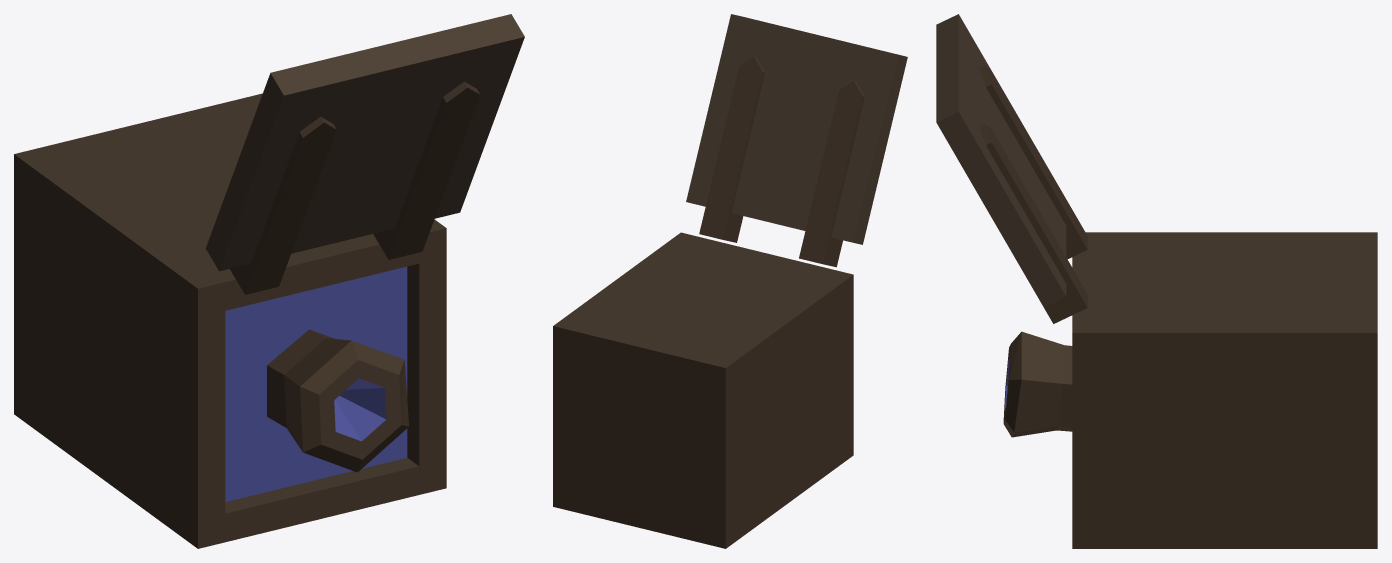
File: SM_Veh_Extra_Gun_01_Pirate.glb
3 renders of one model, left to right at view 1: azimuth 30°, elevation 25°; view 2: azimuth 150°, elevation 25°; view 3: azimuth 270°, elevation 25°, orthographic. The views are drawn at different scales.
Parts seen in each view (by area): view 1: SM_Veh_Extra_Gun_01_Pirate_00, SM_Veh_Extra_Gun_01_Pirate_02, SM_Veh_Extra_Gun_01_Pirate_01; view 2: SM_Veh_Extra_Gun_01_Pirate_00, SM_Veh_Extra_Gun_01_Pirate_02; view 3: SM_Veh_Extra_Gun_01_Pirate_00, SM_Veh_Extra_Gun_01_Pirate_02, SM_Veh_Extra_Gun_01_Pirate_01.
Part boxes in pixels (box(x1,y1,x2,y2)): SM_Veh_Extra_Gun_01_Pirate_00: box(14, 93, 446, 548); SM_Veh_Extra_Gun_01_Pirate_02: box(205, 14, 524, 294); SM_Veh_Extra_Gun_01_Pirate_01: box(267, 329, 408, 472); SM_Veh_Extra_Gun_01_Pirate_00: box(553, 232, 853, 548); SM_Veh_Extra_Gun_01_Pirate_02: box(686, 14, 907, 267); SM_Veh_Extra_Gun_01_Pirate_00: box(1072, 232, 1377, 548); SM_Veh_Extra_Gun_01_Pirate_02: box(936, 14, 1087, 323); SM_Veh_Extra_Gun_01_Pirate_01: box(1003, 331, 1072, 437).
Size of the model in its own units: 0.8599 by 1.74 by 1.59.
1 material, 1 textured.
